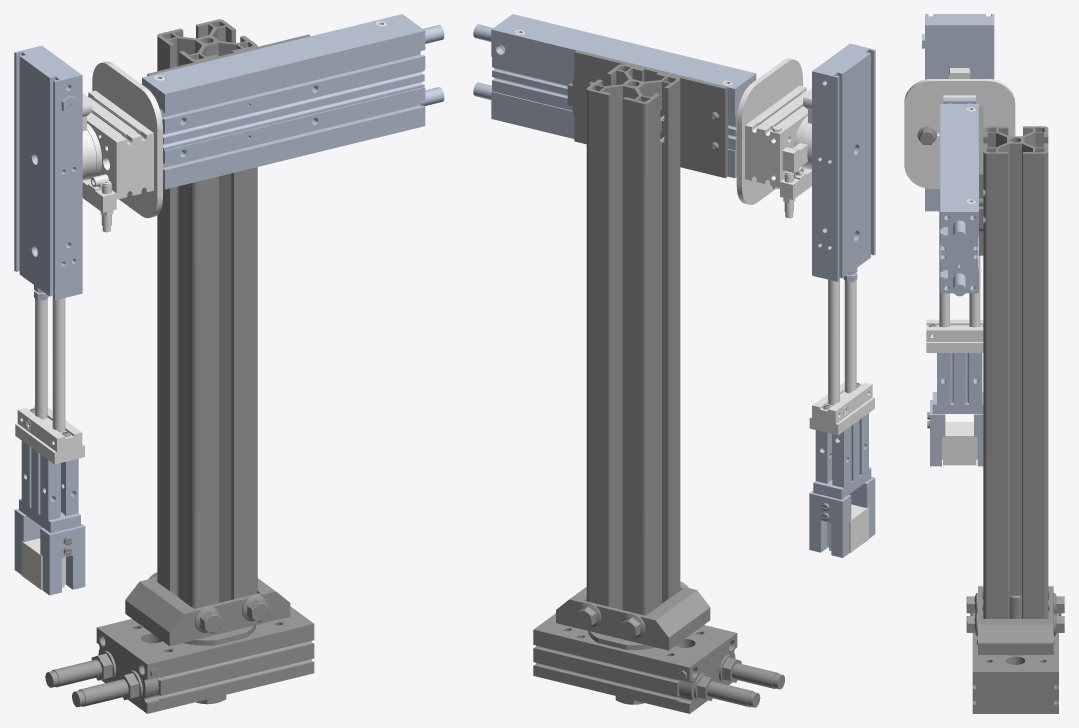
3 renders of one model, left to right at view 1: azimuth 30°, elevation 25°; view 2: azimuth 150°, elevation 25°; view 3: azimuth 270°, elevation 25°, orthographic. The views are drawn at different scales.
Parts seen in each view (by area): view 1: Aluminium Profile 3030 30x30 mm v1, object 20, _MSQ50R(0)_BODY, object 21, object 11, object 12, MSQB10L3_Body(0), Component6, CXS20-100R(0)_ROD, object 4, Component4, object 6 (+4 smaller); view 2: Aluminium Profile 3030 30x30 mm v1, _MSQ50R(0)_BODY, object 21, object 11, Component7, object 12, MSQB10L3_Body(0), Component6, CXS20-100R(0)_ROD, object 20, object 4, Component4 (+5 smaller); view 3: Aluminium Profile 3030 30x30 mm v1, Component4, _MSQ50R(0)_BODY, object 21, object 12, Component6, object 4, object 20, CXS20-100R(0)_ROD, Obiect v7, Component7, object 6 (+7 smaller).
Boxes of the visible parts, bbox=[...] form: Aluminium Profile 3030 30x30 mm v1: bbox=[157, 19, 257, 608]; object 20: bbox=[142, 41, 315, 189]; _MSQ50R(0)_BODY: bbox=[45, 606, 314, 713]; object 21: bbox=[293, 14, 425, 152]; object 11: bbox=[14, 144, 82, 300]; object 12: bbox=[14, 45, 82, 173]; MSQB10L3_Body(0): bbox=[82, 90, 153, 232]; Component6: bbox=[125, 577, 290, 646]; CXS20-100R(0)_ROD: bbox=[17, 296, 82, 452]; object 4: bbox=[19, 441, 80, 533]; Component4: bbox=[92, 61, 162, 218]; object 6: bbox=[40, 523, 85, 595]; Aluminium Profile 3030 30x30 mm v1: bbox=[586, 64, 680, 615]; _MSQ50R(0)_BODY: bbox=[533, 613, 784, 713]; object 21: bbox=[491, 14, 614, 138]; object 11: bbox=[812, 136, 875, 281]; Component7: bbox=[567, 50, 728, 178]; object 12: bbox=[812, 43, 875, 163]; MSQB10L3_Body(0): bbox=[745, 85, 811, 218]; Component6: bbox=[556, 586, 710, 650]; CXS20-100R(0)_ROD: bbox=[812, 272, 872, 423]; object 20: bbox=[595, 39, 756, 178]; object 4: bbox=[813, 413, 871, 499]; Component4: bbox=[736, 58, 802, 204]; Aluminium Profile 3030 30x30 mm v1: bbox=[983, 126, 1048, 618]; Component4: bbox=[904, 79, 1015, 188]; _MSQ50R(0)_BODY: bbox=[972, 613, 1058, 713]; object 21: bbox=[940, 166, 978, 293]; object 12: bbox=[922, 14, 994, 79]; Component6: bbox=[978, 586, 1053, 654]; object 4: bbox=[932, 353, 983, 413]; object 20: bbox=[940, 104, 978, 166]; CXS20-100R(0)_ROD: bbox=[926, 211, 983, 341]; Obiect v7: bbox=[942, 422, 977, 465]; Component7: bbox=[978, 107, 983, 255]; object 6: bbox=[930, 400, 945, 466].
Bounding box in the file's own units: 0.3725 × 0.6119 × 0.1487.
